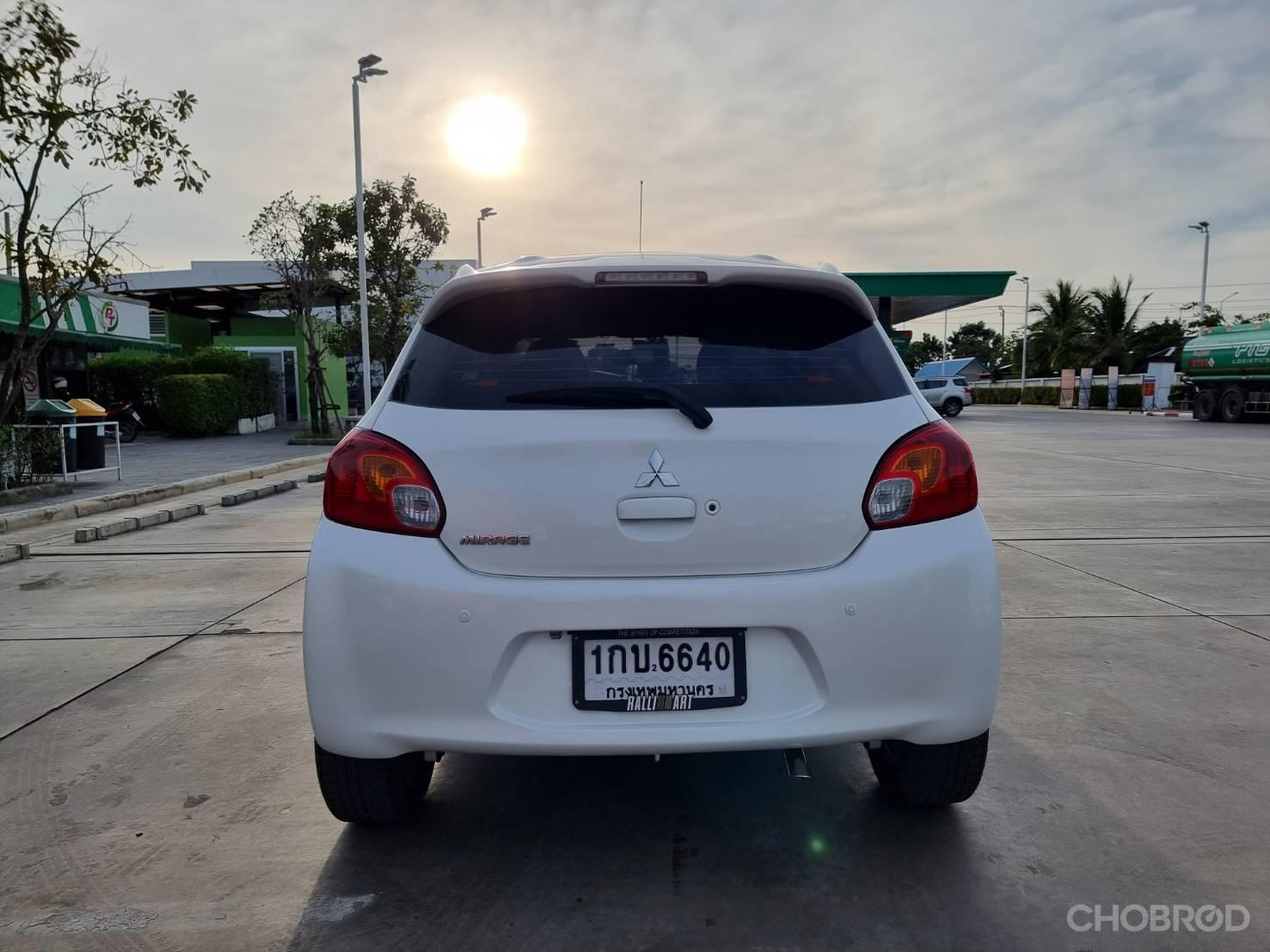license-plate: (572, 626, 751, 714)
